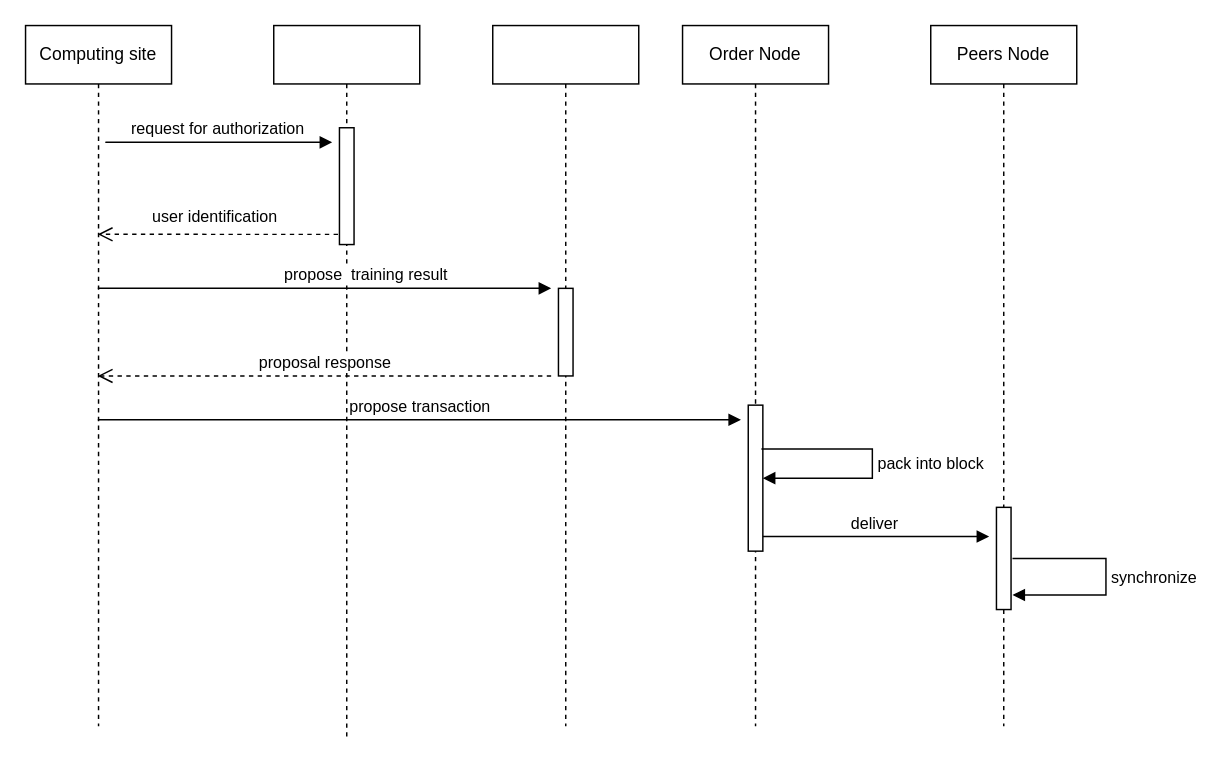
This 1223x767 diagram has some shape labels left out. The centre of each missing label's shape, as x and y in pixels:
"CA" goes at point (346, 382).
"Endorse Node" goes at point (565, 375).
